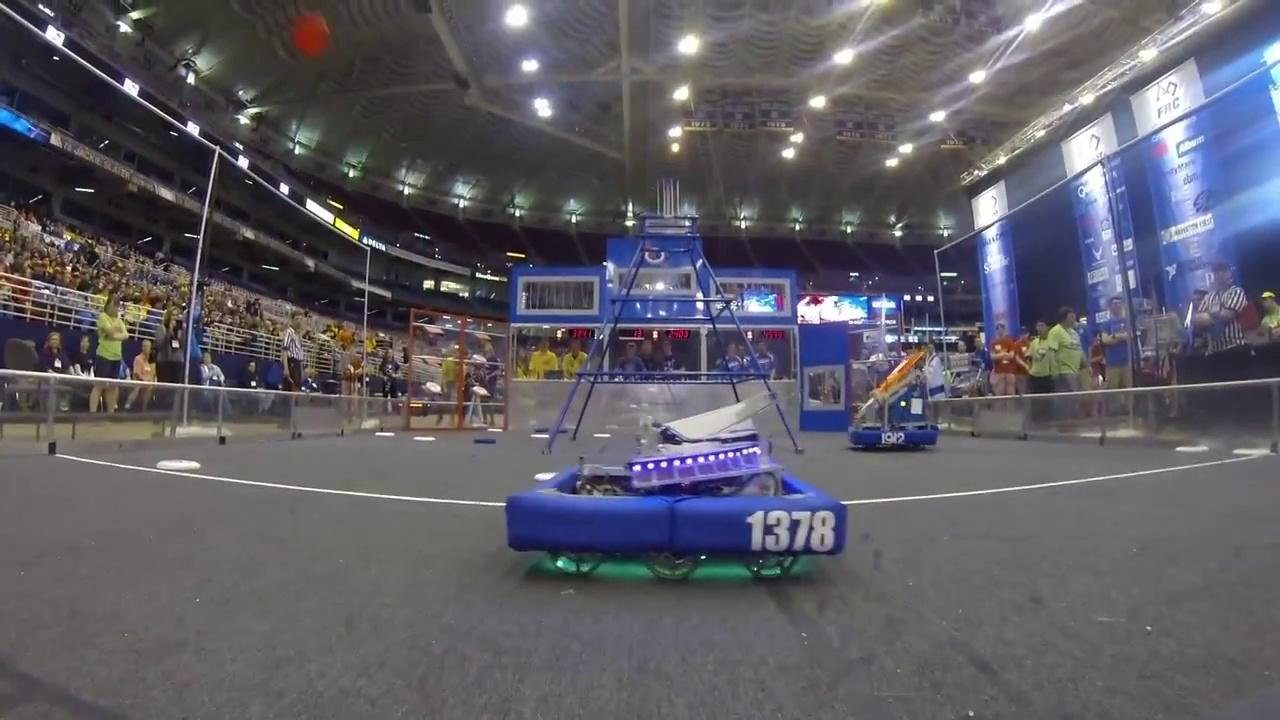robot: (508, 388, 852, 591), (847, 337, 945, 452)
